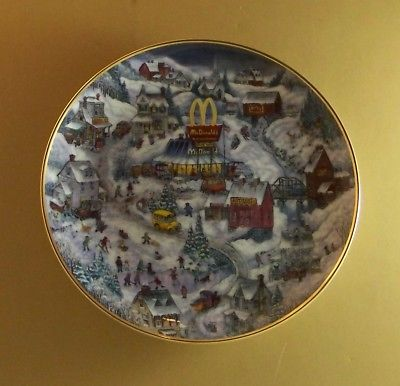mcdonalds: (184, 91, 218, 123)
